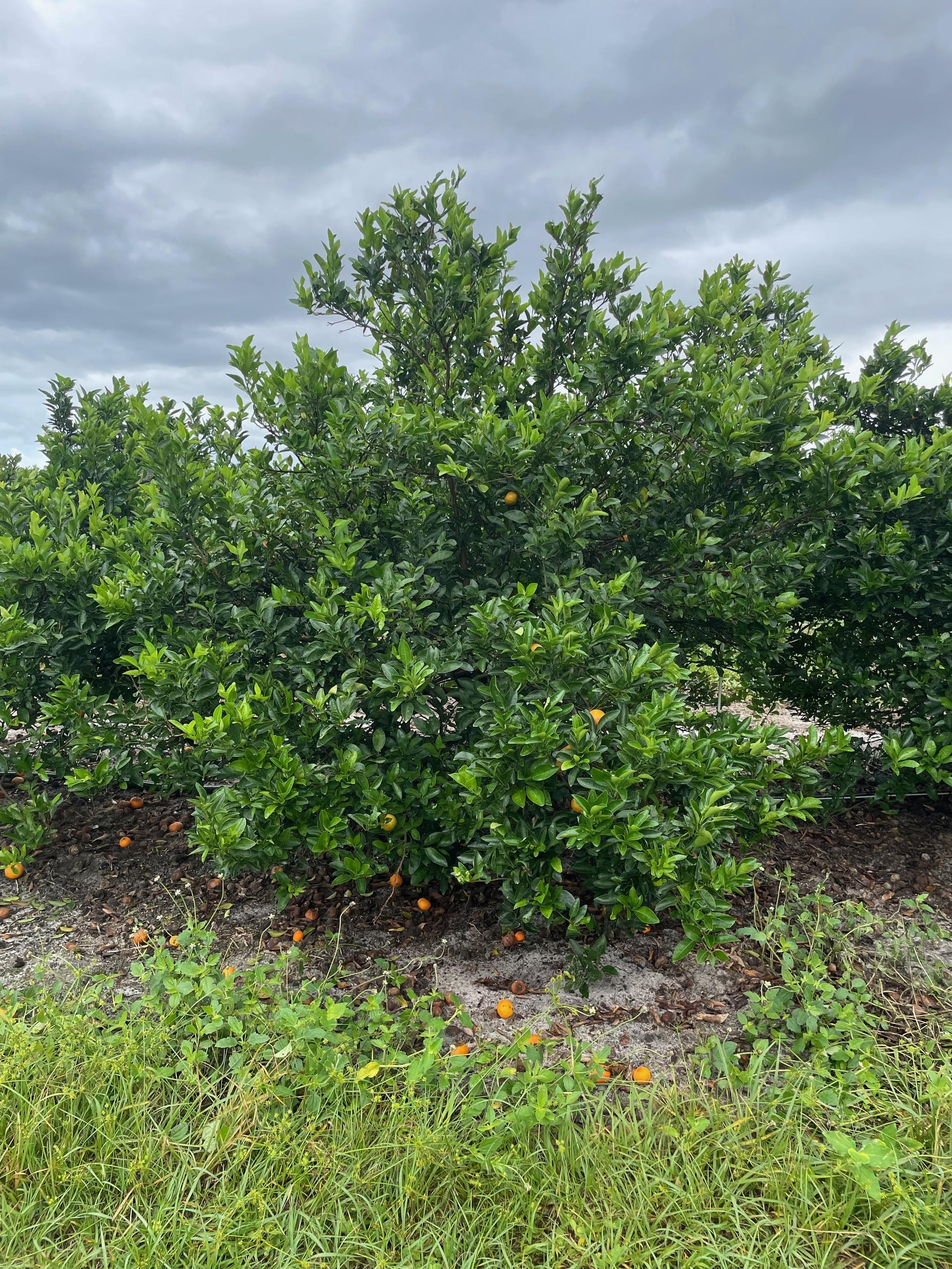fruit_on_ground: (583, 704, 610, 729), (378, 809, 401, 833), (569, 794, 590, 816), (502, 489, 521, 507), (527, 641, 546, 658)
fruit_on_tree: (587, 1063, 612, 1086), (630, 1063, 654, 1086), (3, 859, 25, 880), (495, 997, 516, 1019), (449, 1041, 470, 1058), (509, 978, 528, 996), (387, 871, 405, 888), (415, 895, 432, 912), (132, 928, 148, 944), (167, 818, 184, 833), (220, 964, 236, 979), (501, 930, 516, 946), (512, 927, 527, 943), (167, 932, 182, 948), (303, 906, 319, 921), (206, 876, 222, 890), (170, 867, 185, 881), (129, 795, 145, 808), (117, 835, 133, 848), (325, 904, 339, 918), (291, 928, 305, 942), (0, 904, 12, 920)
